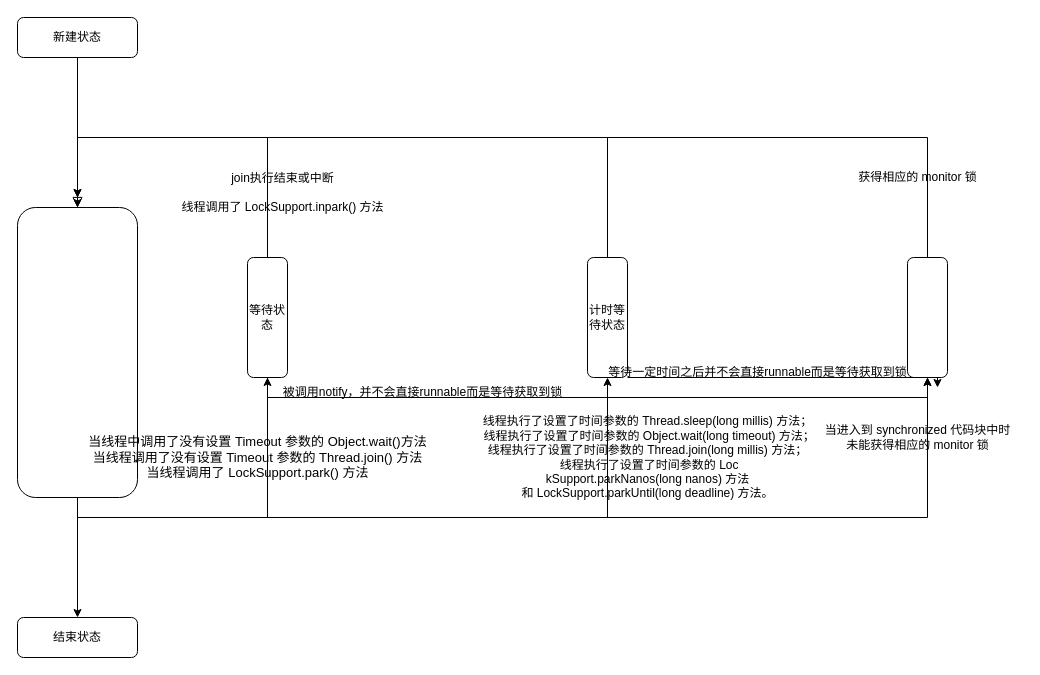
The diagram is 1040 pixels wide and 675 high, and some of its shapes have lost their labels. Here are the shapes that lost their labels. From the top down, the centre of each, then its label:
pixel 927 317: 阻塞状态
pixel 77 352: Runable状态（可执行状态）
